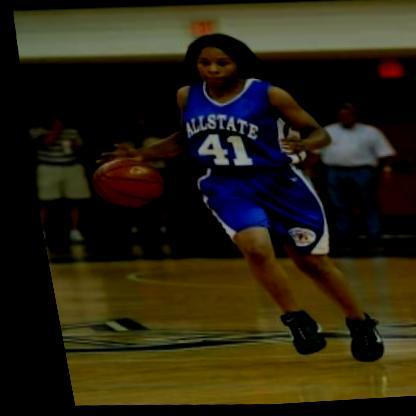basketball: (77, 158, 163, 211)
